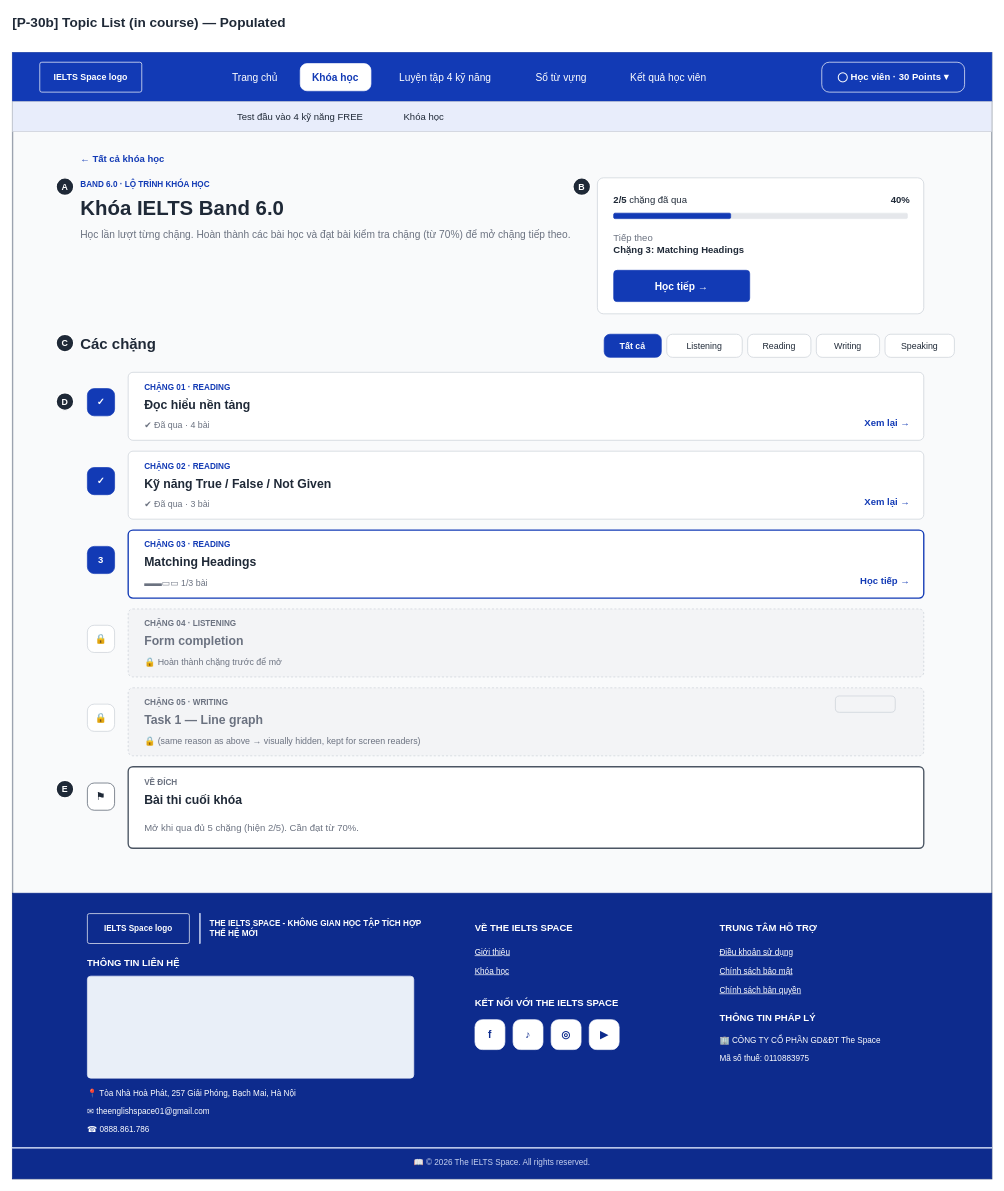
This 1004x1191 diagram has some shape labels left out. The centre of each missing label's shape, as x and y in pixels:
"👑 Premium" goes at (865,703).
"📍 The IELTS Space Mở trong Maps ↗" goes at (250,1026).
